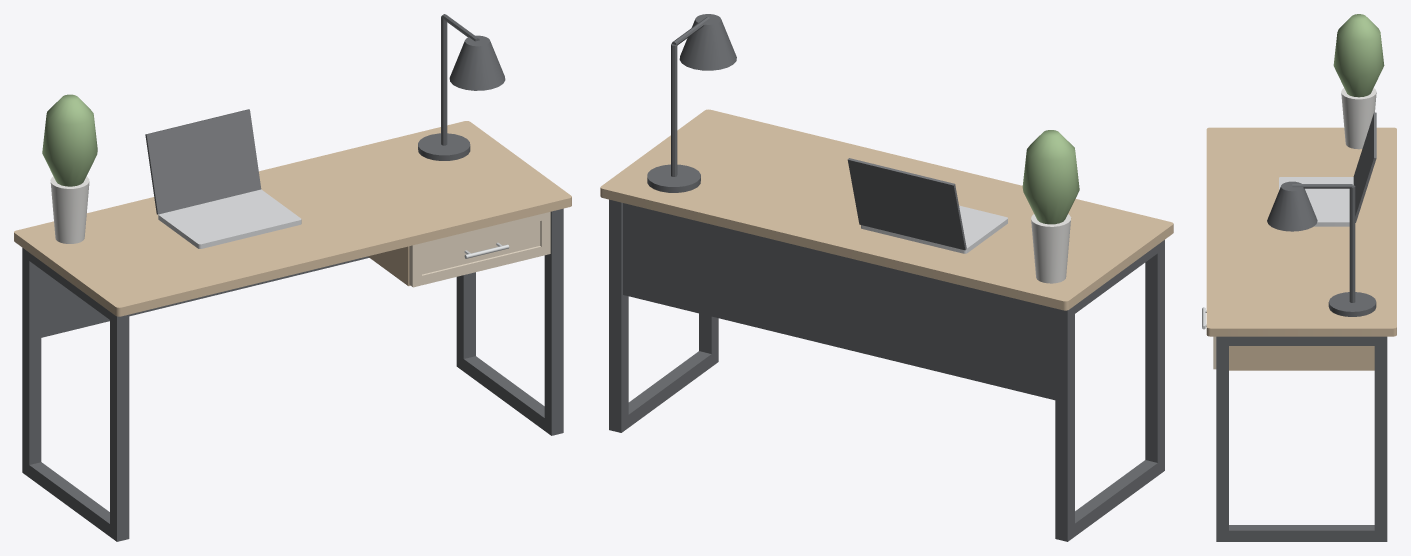
3 renders of one model, left to right at view 1: azimuth 30°, elevation 25°; view 2: azimuth 150°, elevation 25°; view 3: azimuth 270°, elevation 25°, orthographic. The views are drawn at different scales.
Visible parts, largest first — view 1: Bàn học Dài=1500; Sâu=600; view 2: Bàn học Dài=1500; Sâu=600; view 3: Bàn học Dài=1500; Sâu=600.
Boxes of the visible parts, <box> form: Bàn học Dài=1500; Sâu=600: <box>14,14,571,541</box>; Bàn học Dài=1500; Sâu=600: <box>600,14,1173,541</box>; Bàn học Dài=1500; Sâu=600: <box>1202,14,1396,541</box>.
Size of the model in its own units: 1.5 by 1.19 by 0.615.
